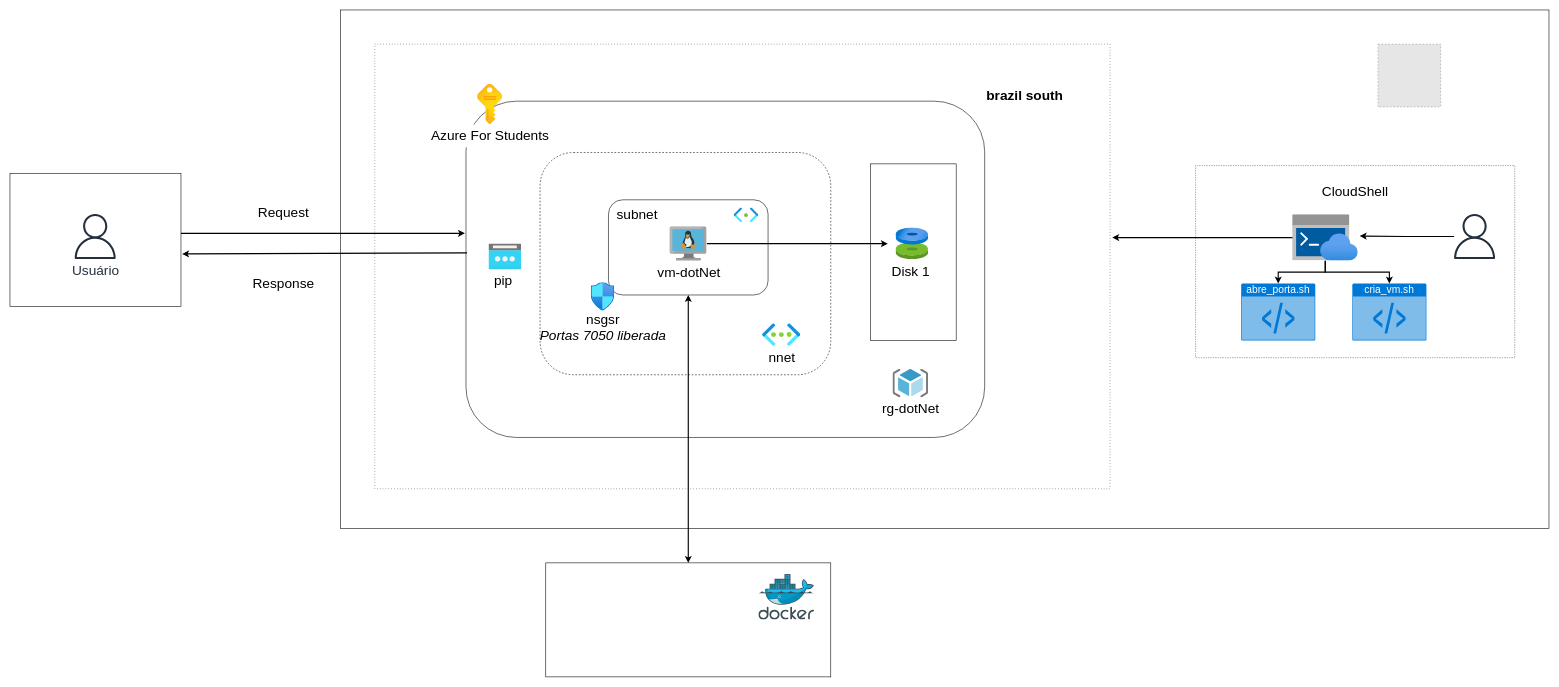
Image size: 1559x687. Some labels were removed from this diagram. Grey dashed boxes stand in for pictures. The box of each missing label's shape, as (x1, y1, x2, y2) in pixels:
Admin: (1452, 214, 1497, 259)
DockerHub vitorvhsilva/moto-service: (545, 562, 831, 677)
